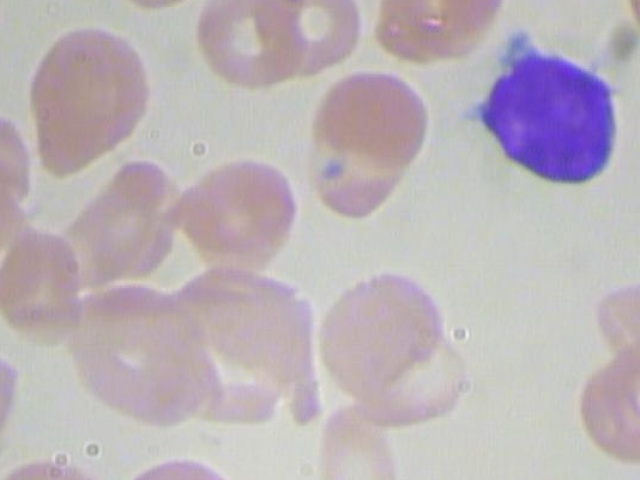RBC: (7, 22, 155, 180), (303, 64, 432, 226), (311, 258, 458, 399), (156, 150, 300, 285), (194, 0, 309, 88), (371, 0, 504, 70), (255, 0, 370, 77), (564, 350, 640, 465), (313, 399, 409, 480), (595, 264, 640, 373), (0, 344, 33, 480), (0, 104, 34, 214), (622, 0, 640, 52), (636, 134, 640, 277)
WBC: (455, 38, 636, 201)
